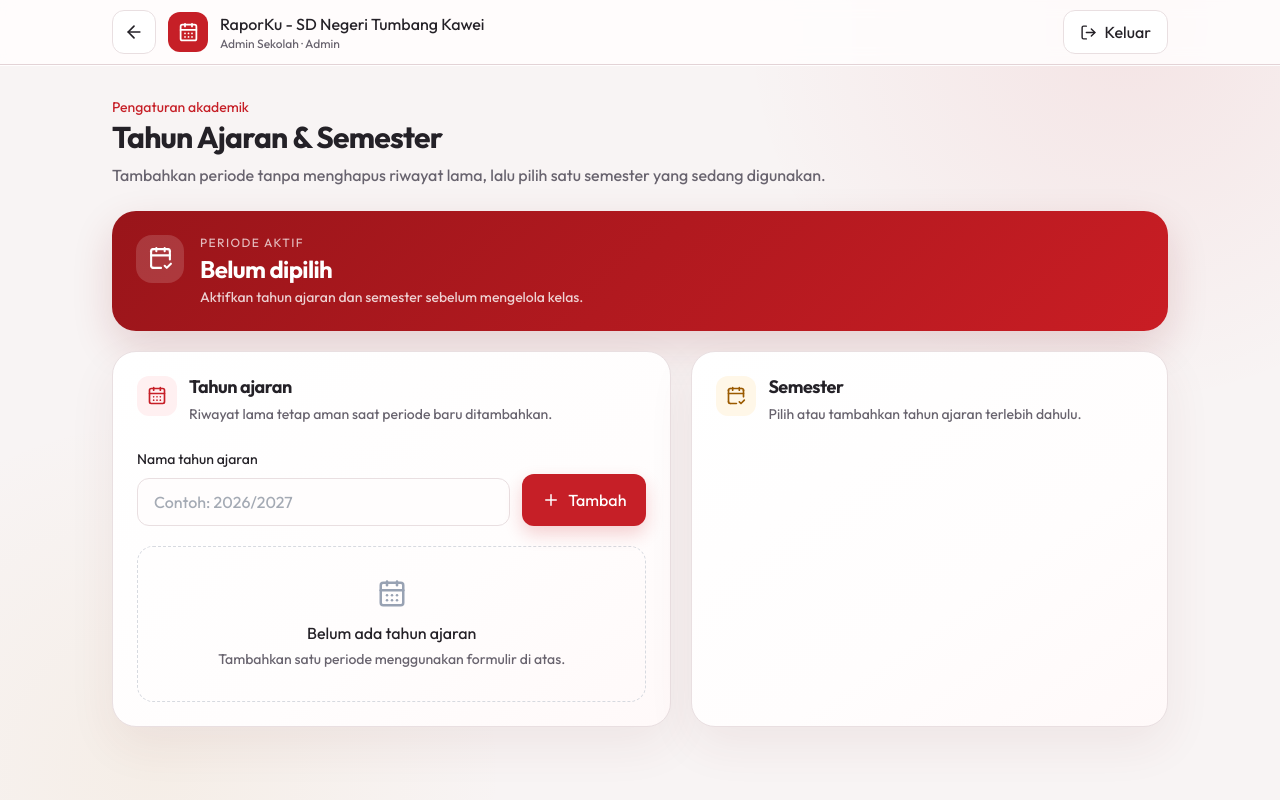
Test: AcademicPeriodsPage › menampilkan pesan aman ketika tahun ajaran gagal disimpan
Type "2026/2027" into the field labelled "Nama tahun ajaran" at x=324, y=502, box [137,478,510,526]
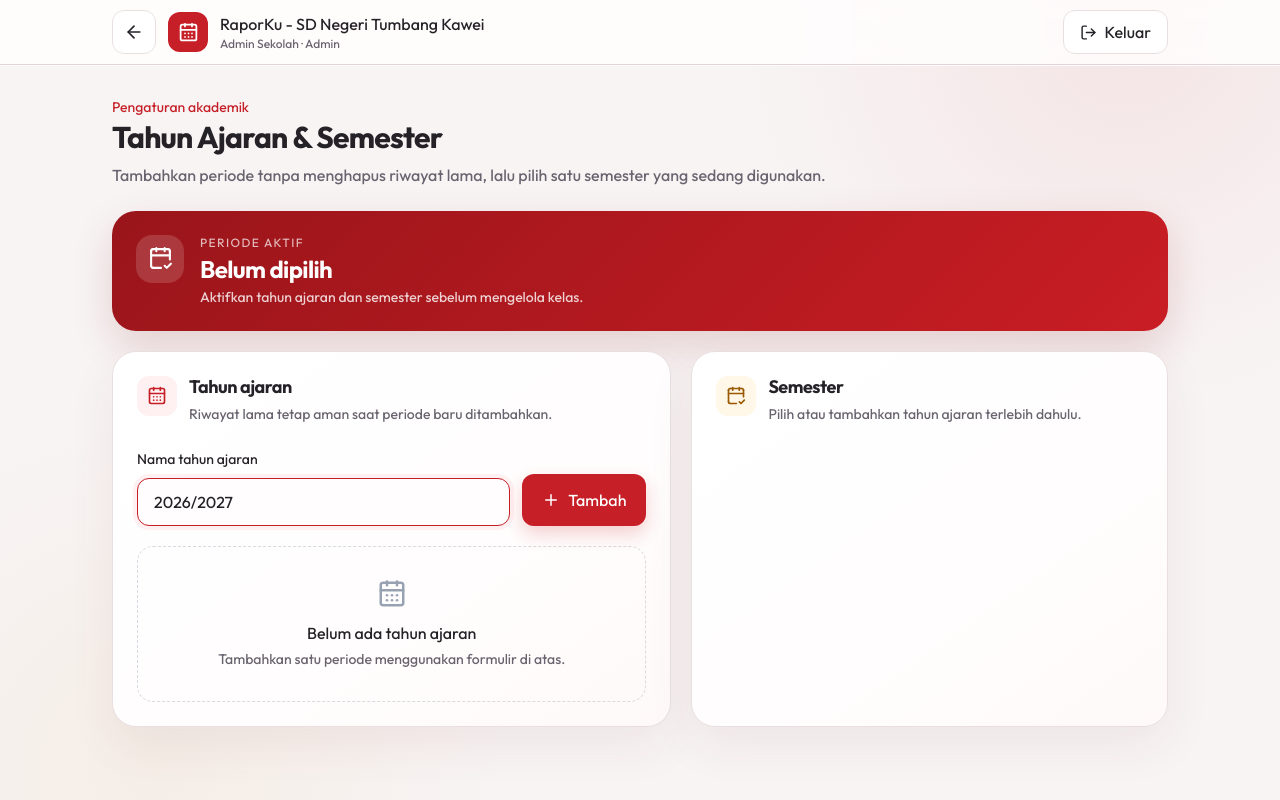
Click the button "Tambah" at x=584, y=500, box [522,474,646,526]
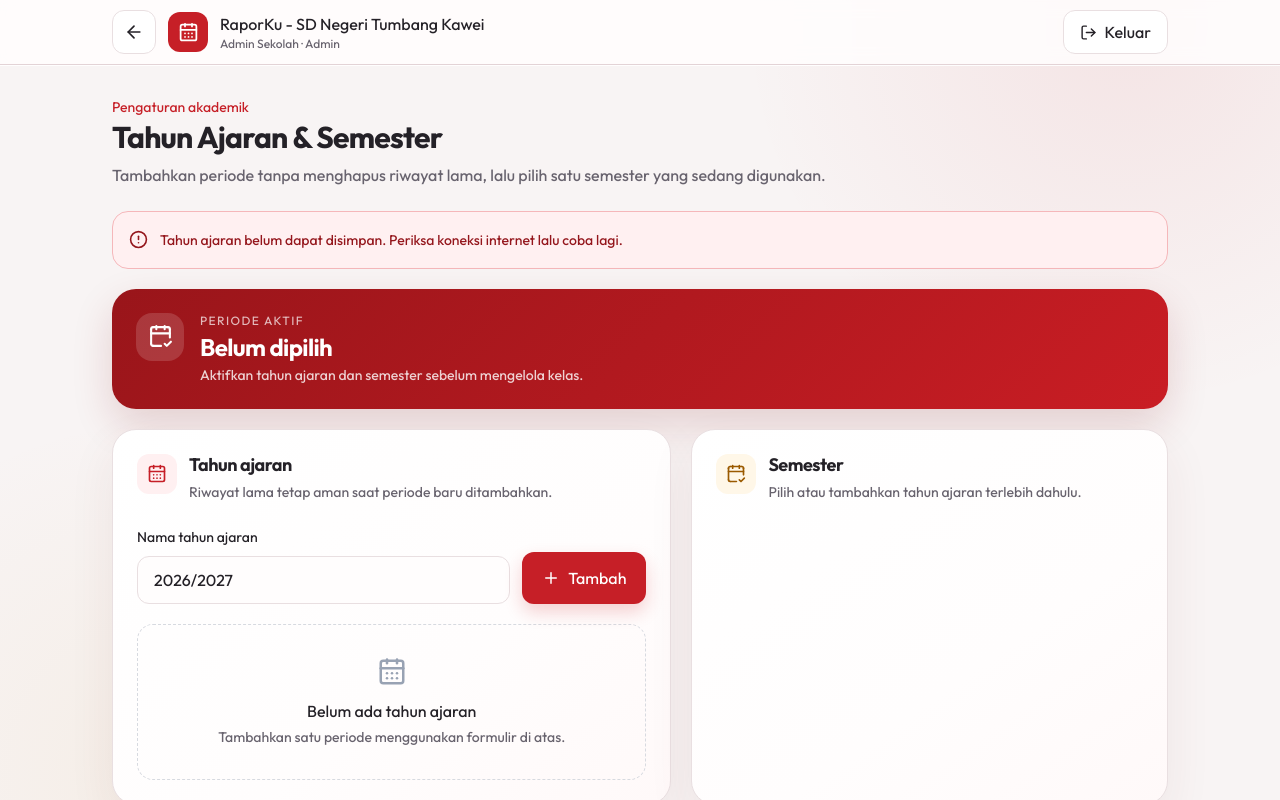
expect the message reads "Tahun ajaran belum dapat disimpan. Periksa koneksi internet lalu coba lagi.": met, box [160,231,623,249]
